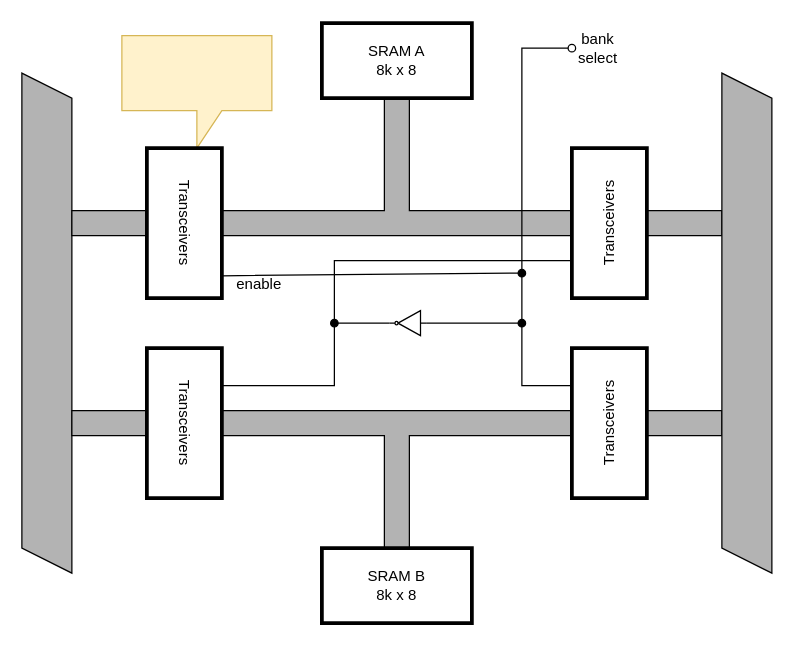
This 794x646 diagram has some shape labels left out. The centre of each missing label's shape, as x and y in pixels:
"CPU 1" goes at (46,322).
"CPU 2" goes at (746,322).
"Transceivers: 8 bi-dir for data bus 13 uni-dir for address 3 uni-dir for control" goes at (196,91).
